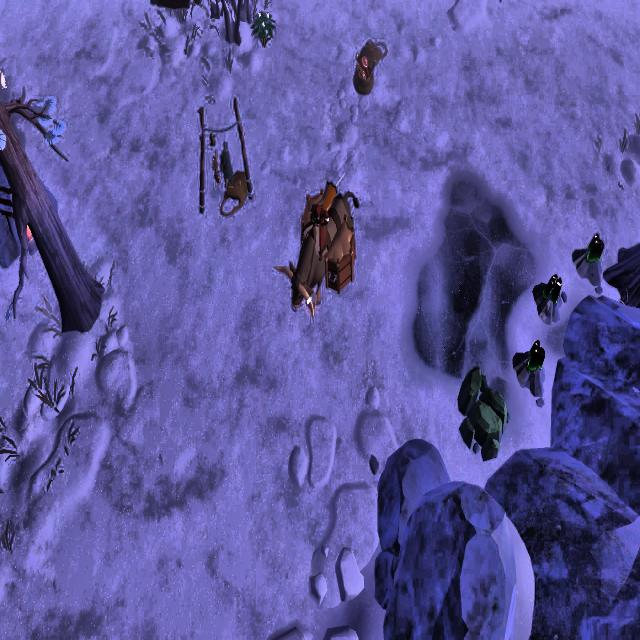fiber_t3: (252, 7, 276, 49)
ore_t3: (526, 335, 547, 375), (543, 265, 562, 306), (587, 229, 605, 267)
rock_t3: (454, 356, 511, 466)
